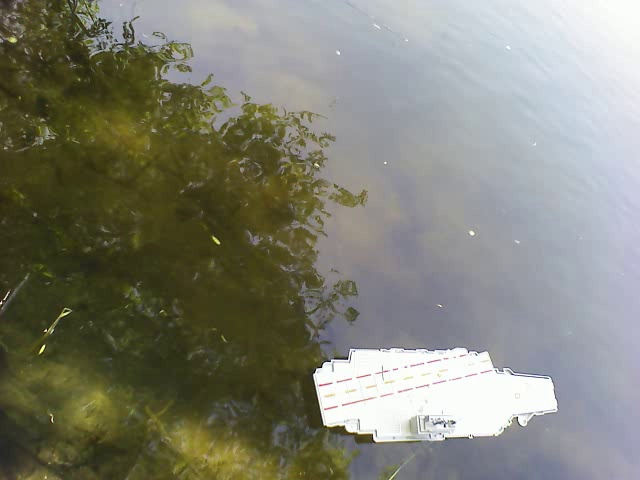aircraft_carrier: (302, 342, 565, 443)
